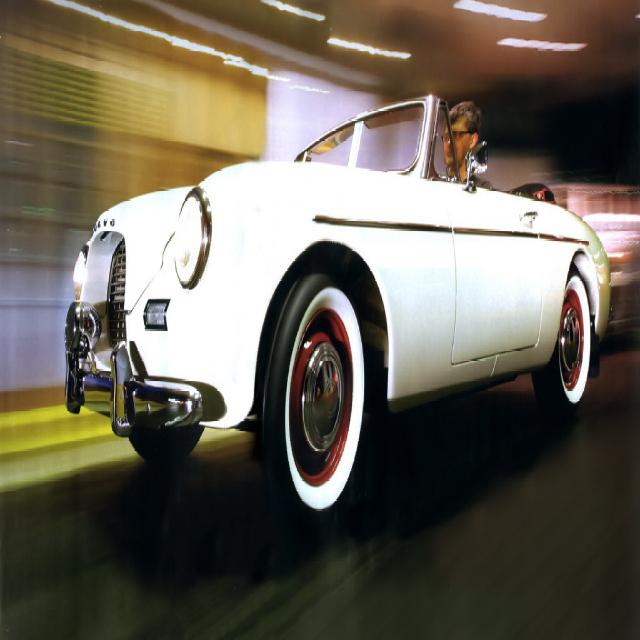car: (61, 86, 607, 537)
